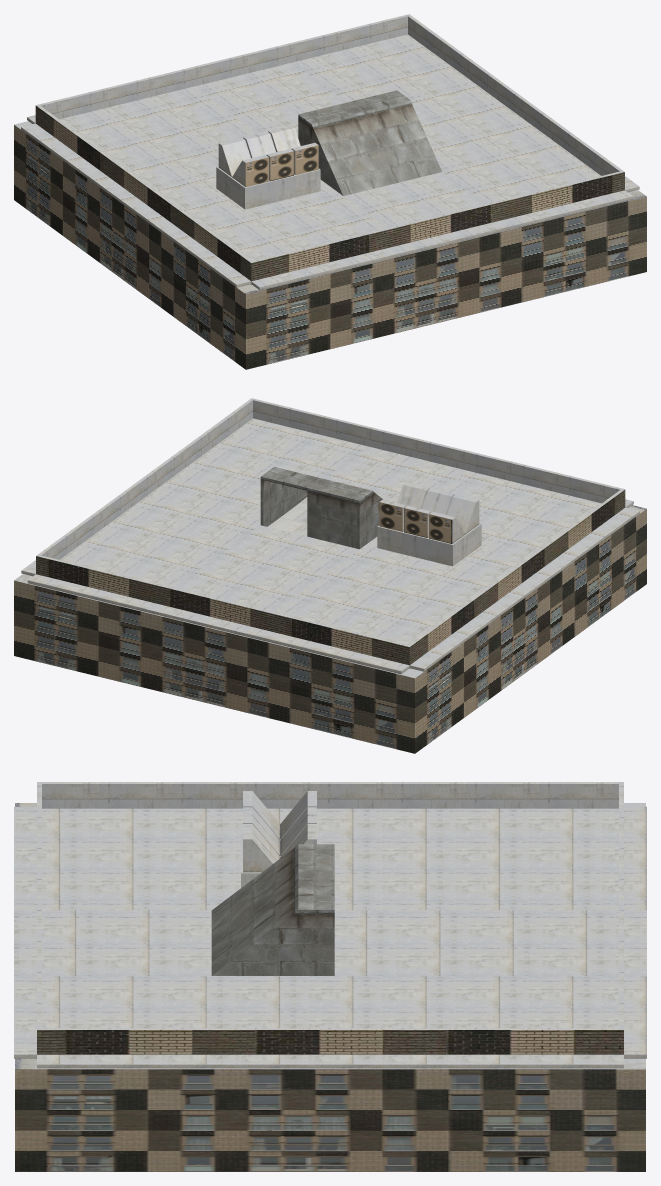
File: BagSS04top_0.fbx
3 views of the same model, one above another, from view 1: azimuth 30°, elevation 25°; view 2: azimuth 150°, elevation 25°; view 3: azimuth 270°, elevation 25° (orthographic). The views are drawn at different scales.
Visible parts, largest first — view 1: toproof0, topBox0, toproofrim0, topStairwell0, topvents0, topRoofa0; view 2: toproof0, topBox0, toproofrim0, topStairwell0, topvents0, topRoofa0; view 3: toproof0, topBox0, toproofrim0, topStairwell0, topRoofa0.
Boxes of the visible parts, bbox=[...] form: toproof0: bbox=[21, 14, 639, 290]; topBox0: bbox=[14, 125, 646, 369]; toproofrim0: bbox=[35, 105, 624, 281]; topStairwell0: bbox=[298, 90, 441, 195]; topvents0: bbox=[245, 145, 318, 186]; topRoofa0: bbox=[14, 121, 646, 294]; toproof0: bbox=[21, 398, 639, 674]; topBox0: bbox=[14, 509, 646, 753]; toproofrim0: bbox=[36, 489, 625, 665]; topStairwell0: bbox=[260, 467, 382, 549]; topvents0: bbox=[379, 502, 452, 543]; topRoofa0: bbox=[14, 497, 646, 678]; toproof0: bbox=[14, 782, 646, 1068]; topBox0: bbox=[15, 1069, 645, 1171]; toproofrim0: bbox=[37, 1030, 623, 1054]; topStairwell0: bbox=[211, 844, 334, 975]; topRoofa0: bbox=[15, 803, 645, 1069].
Size of the model in its own units: 22.1 by 6.71 by 22.1.
